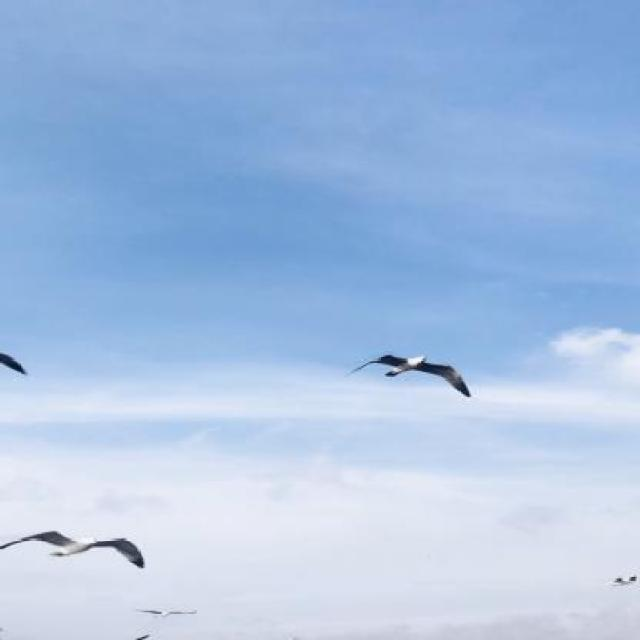bird: (2, 526, 146, 574), (347, 352, 475, 399), (132, 605, 203, 620), (0, 350, 32, 378), (607, 572, 639, 592)
